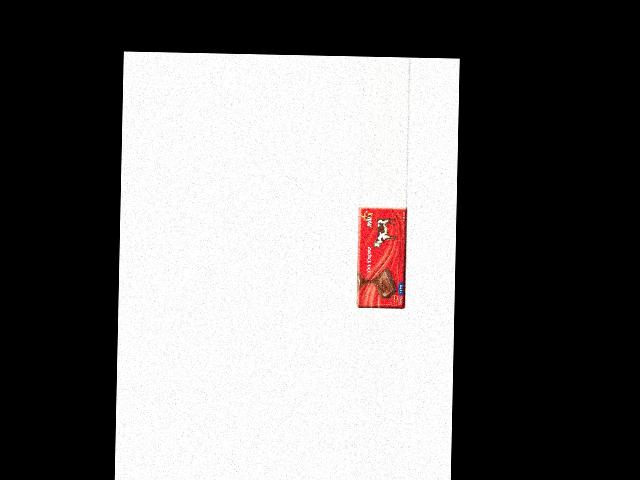chocolate: (356, 205, 406, 309)
